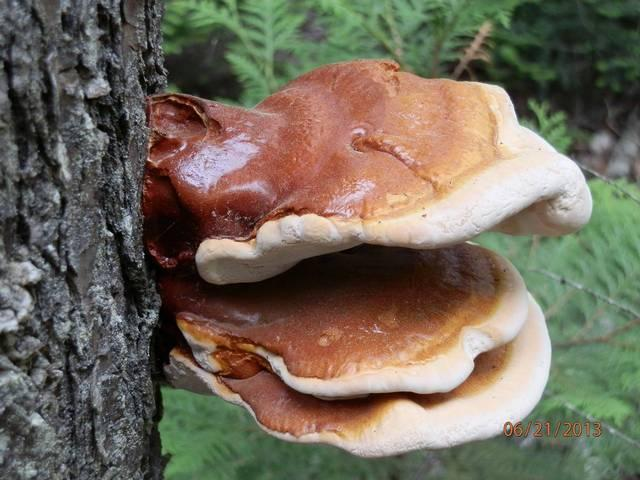Non-edible Mushroom: (130, 232, 562, 473), (142, 57, 593, 286)
